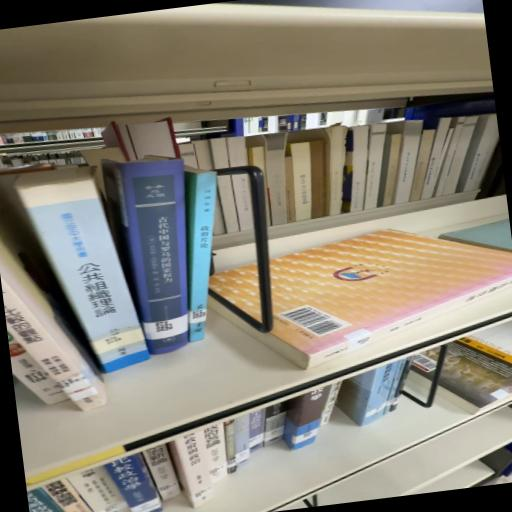flat: (255, 229, 512, 369), (209, 265, 261, 328)
